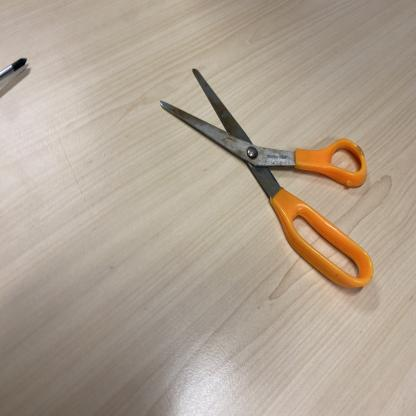scissors: (158, 69, 376, 290)
